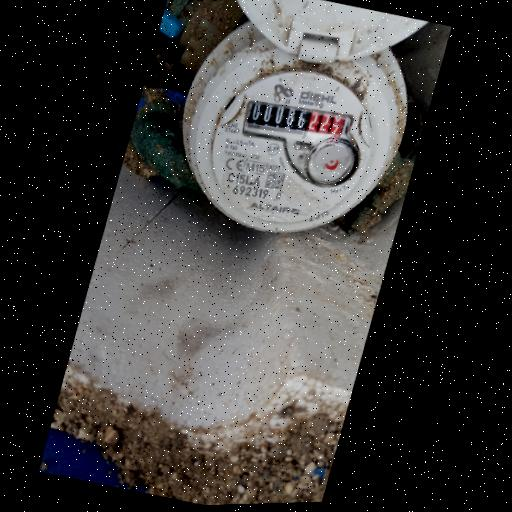0: (259, 102, 275, 125), (248, 101, 264, 123), (271, 105, 287, 126)
2: (305, 111, 320, 132), (317, 112, 332, 133)
6: (293, 108, 309, 130)
7: (327, 113, 345, 140)
8: (283, 106, 298, 127)
border_water_meter_number: (239, 90, 361, 156)
